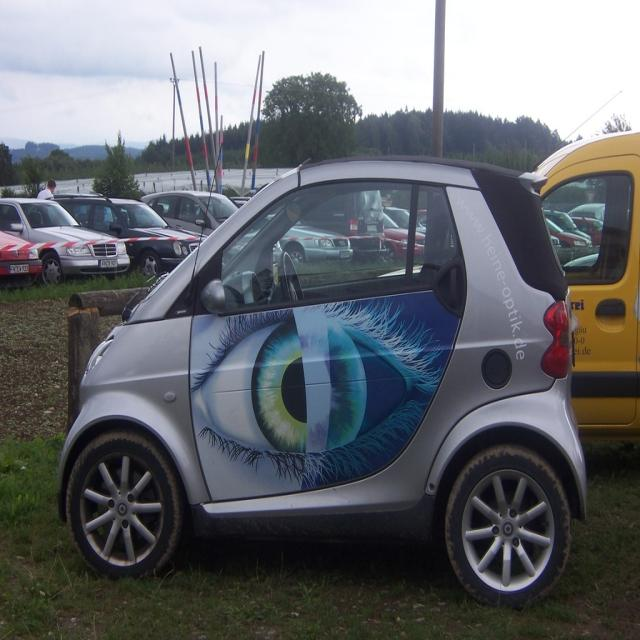car: (56, 153, 592, 608)
